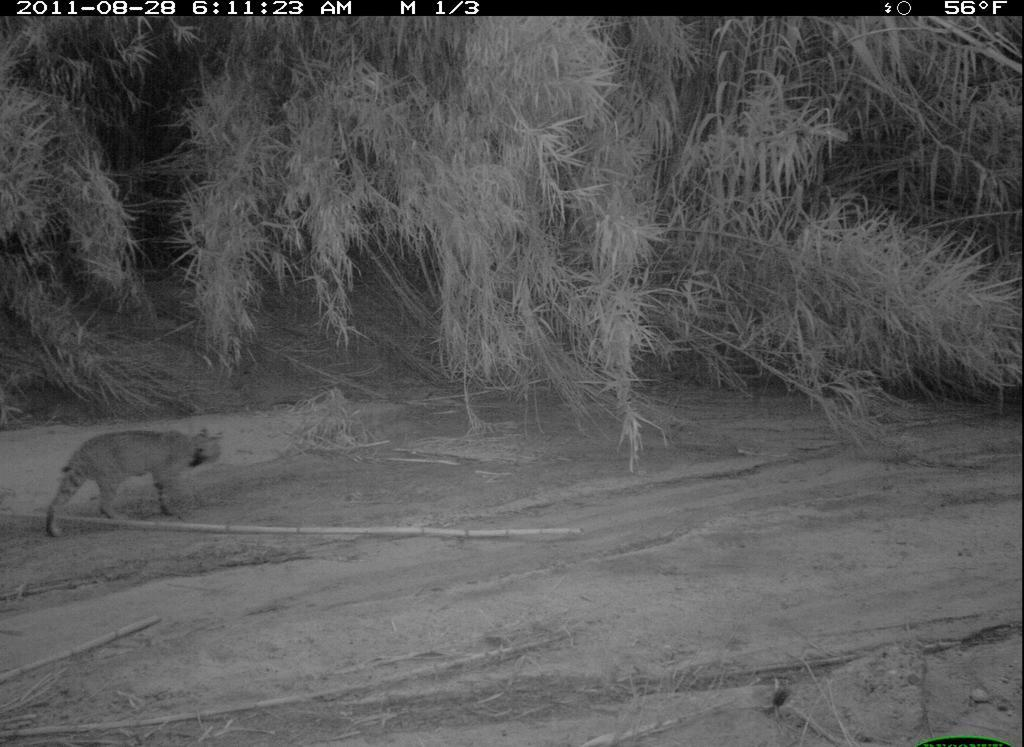bobcat: (35, 413, 258, 533)
